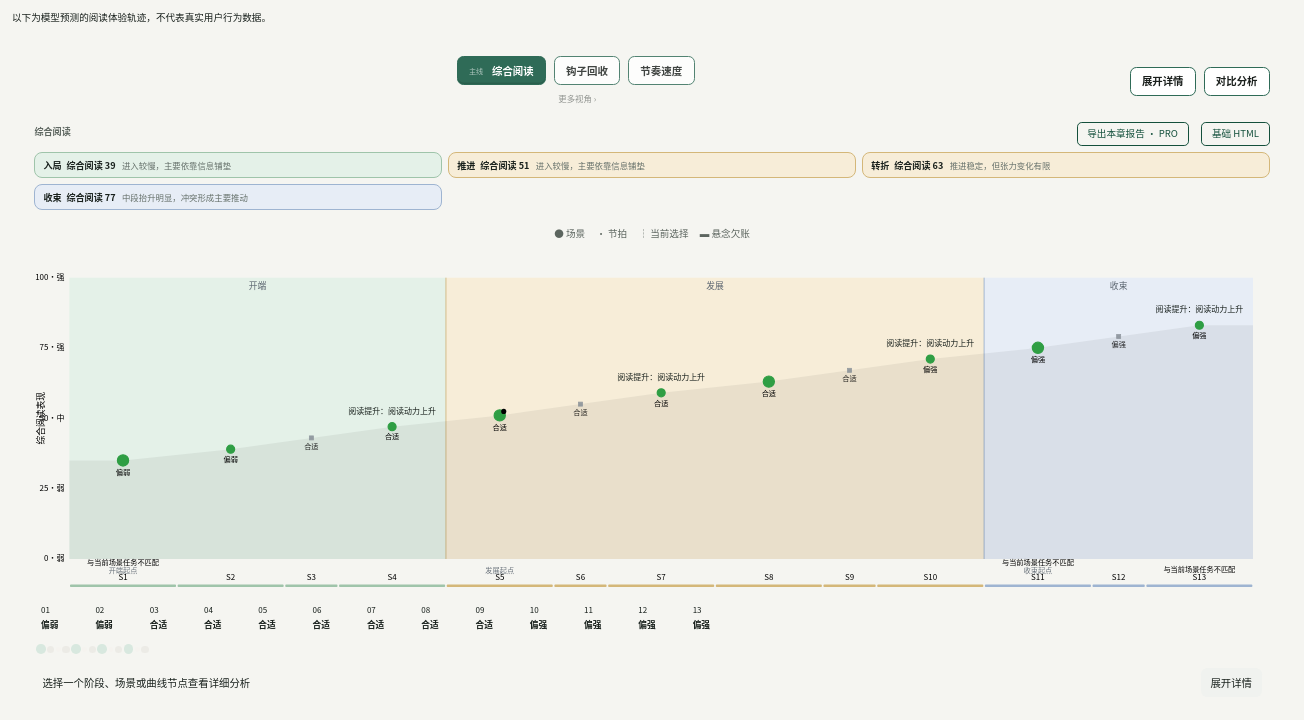
Reader Journey Visualization v3.0 › expands inspector without removing chart shell / plot height attrs
Click the button with test id "journey-inspector-summary-expand" at (1231, 683), box left=1201, top=668, right=1262, bottom=697
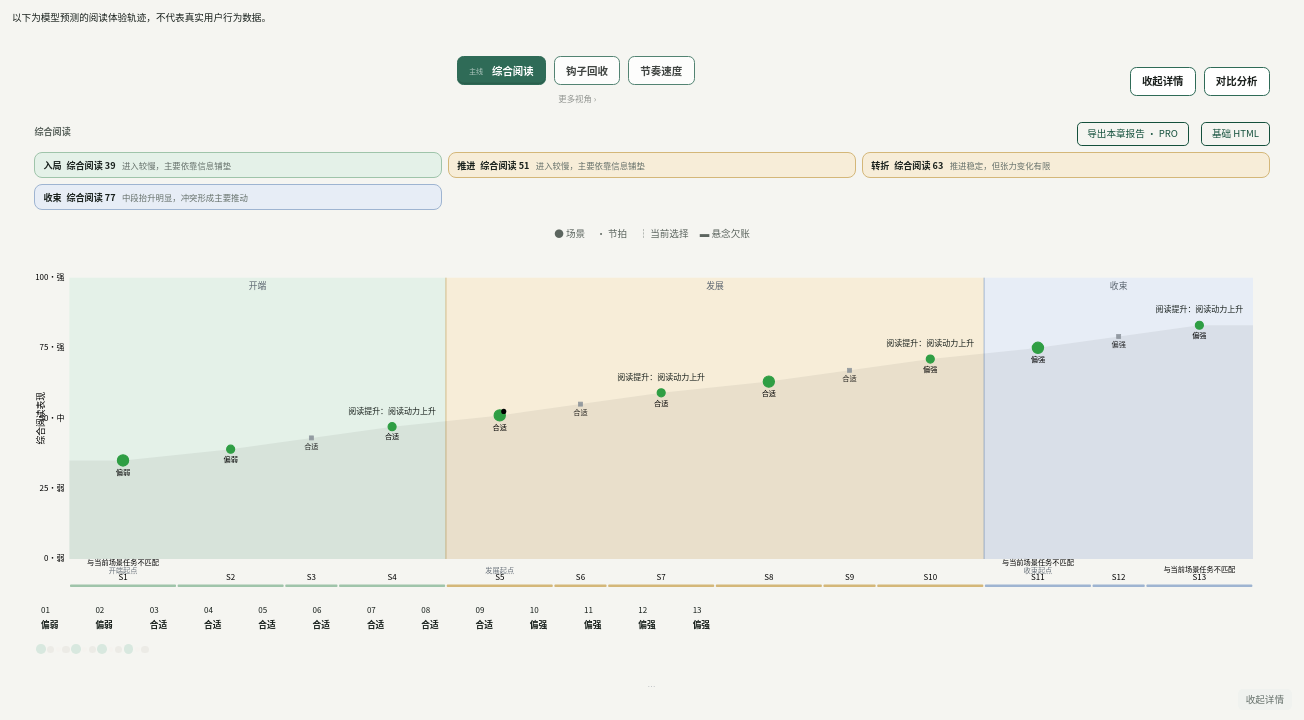
Expected: the element with test id "journey-chart-shell" is shown, left=34, top=255, right=1270, bottom=656
Click the button with test id "journey-collapse-inspector" at (1265, 700), box left=1238, top=689, right=1292, bottom=710
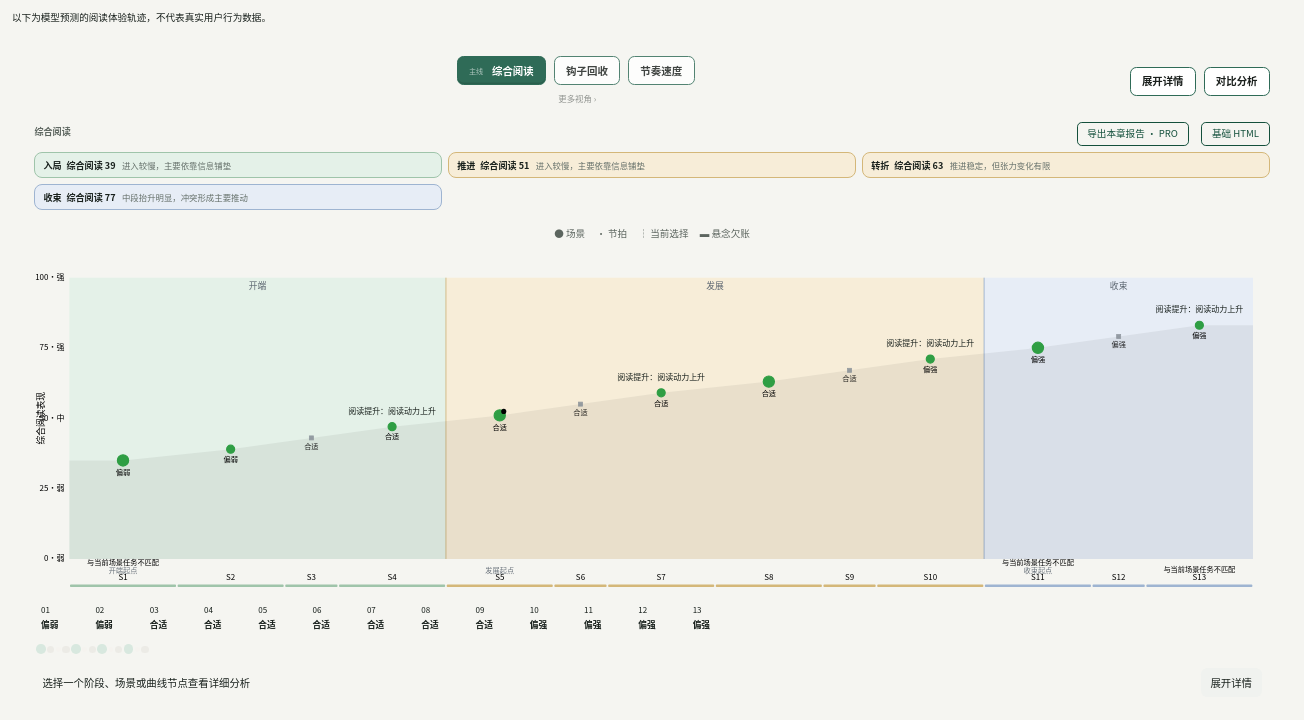
Expected: the element with test id "journey-inspector-summary-bar" is shown, left=34, top=662, right=1270, bottom=704
